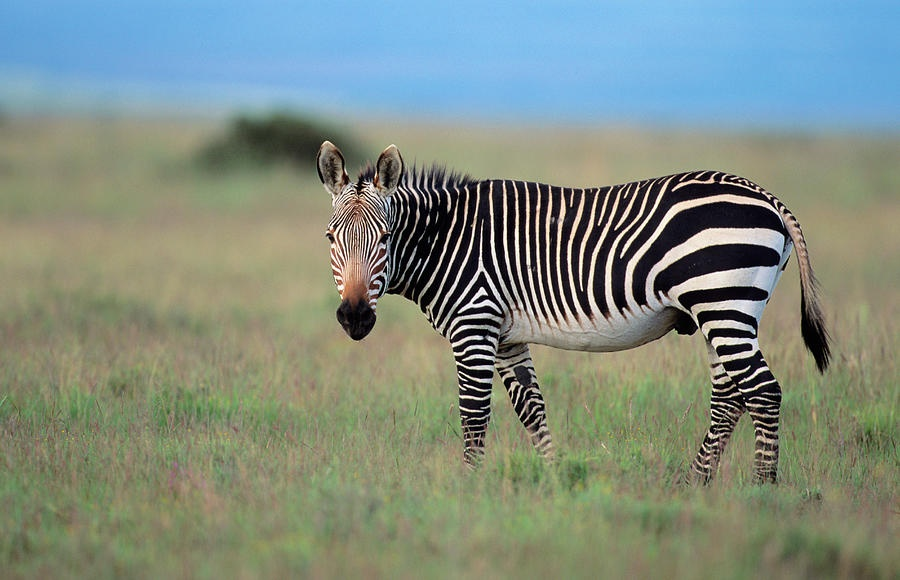zebra: (313, 136, 825, 492)
